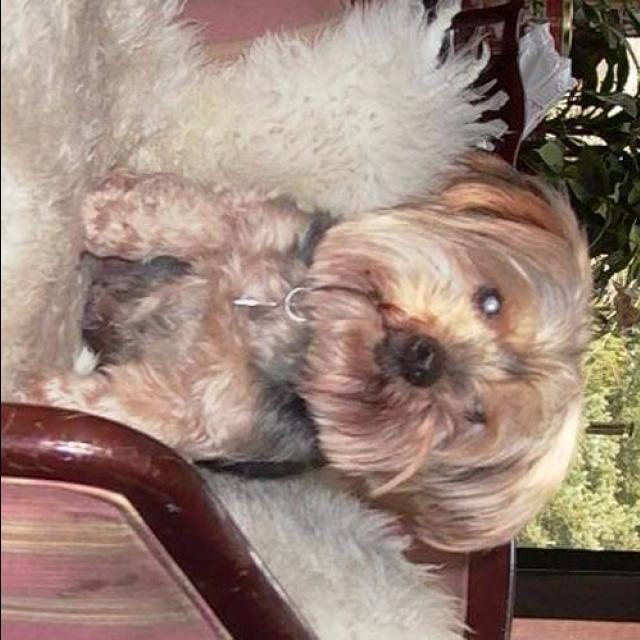dog: (46, 152, 606, 582)
